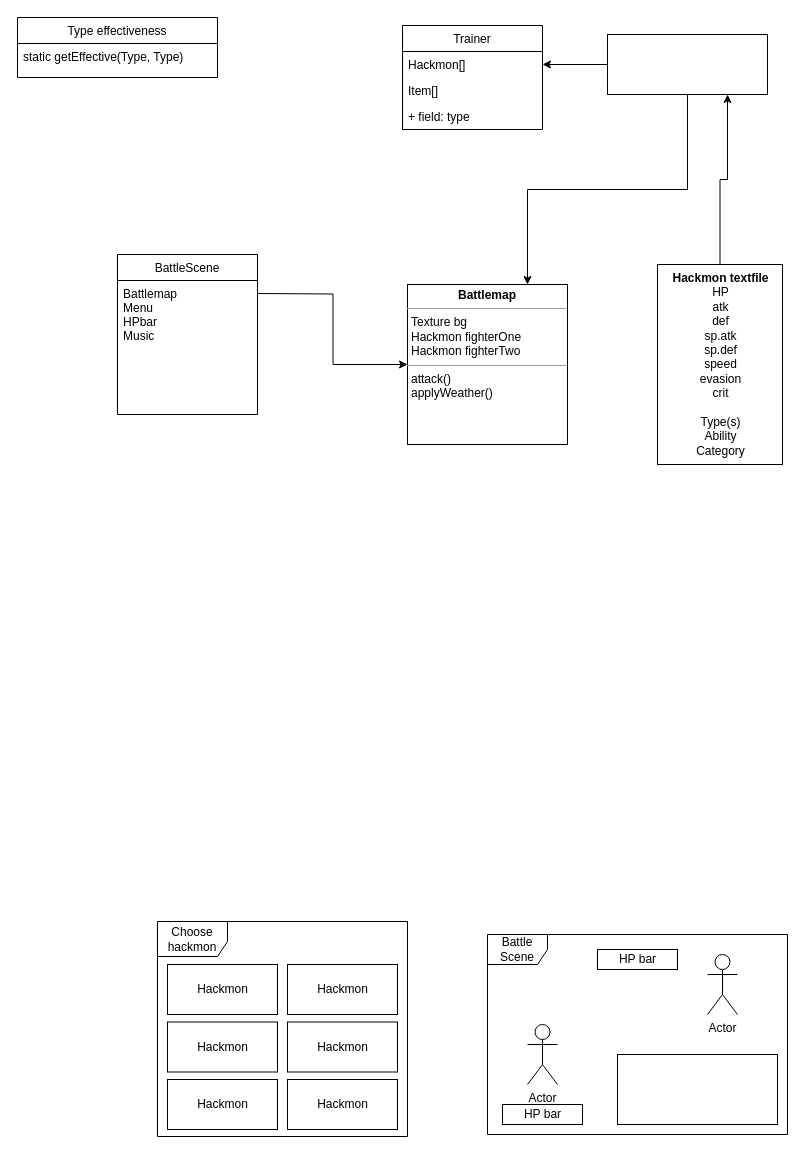
Image size: 805x1154. Some labels were removed from this diagram. The shapes that lost their labels are listed below. From the top down, each one's centre as x and y in pixels, then its label:
(x=687, y=64): Hackmon stats
(x=697, y=1089): Menu
